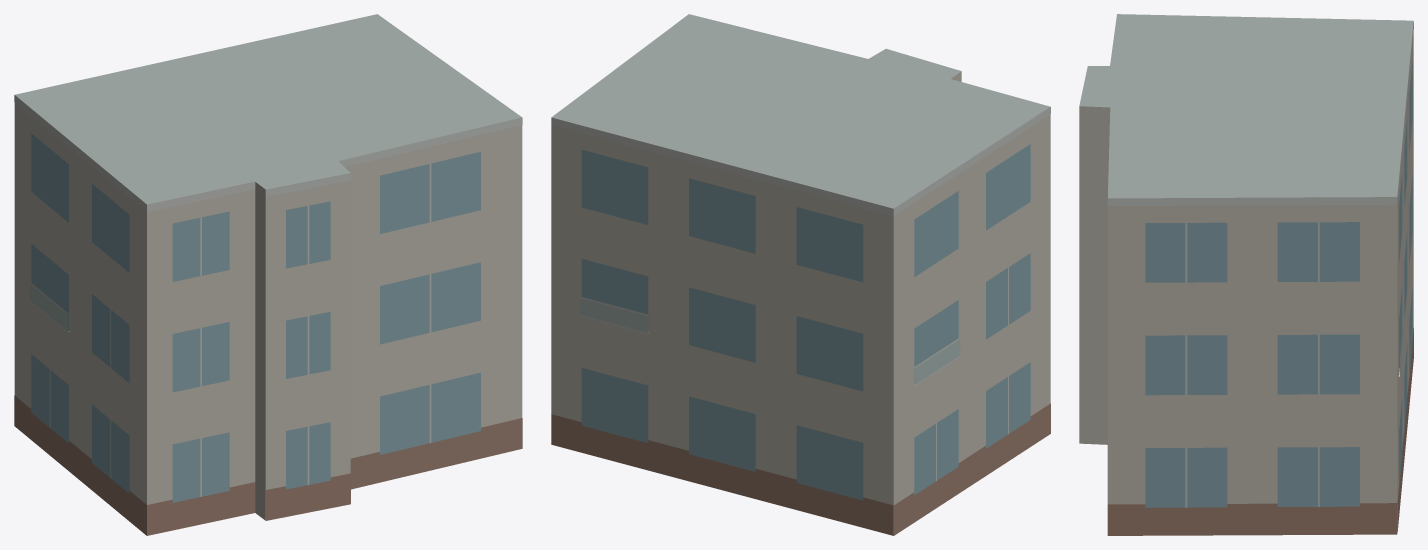
File: survey-upis-32924264.glb
3 renders of one model, left to right at view 1: azimuth 30°, elevation 25°; view 2: azimuth 150°, elevation 25°; view 3: azimuth 270°, elevation 25°, orthographic. The views are drawn at different scales.
Parts seen in each view (by area): view 1: survey-upis-32924264.tmp; view 2: survey-upis-32924264.tmp; view 3: survey-upis-32924264.tmp.
Boxes of the visible parts, x1,y1,x2,y2 form: survey-upis-32924264.tmp: (14,14,522,535); survey-upis-32924264.tmp: (551,14,1050,535); survey-upis-32924264.tmp: (1079,14,1413,535).
Size of the model in its own units: 12.43 by 10.6 by 9.53.
